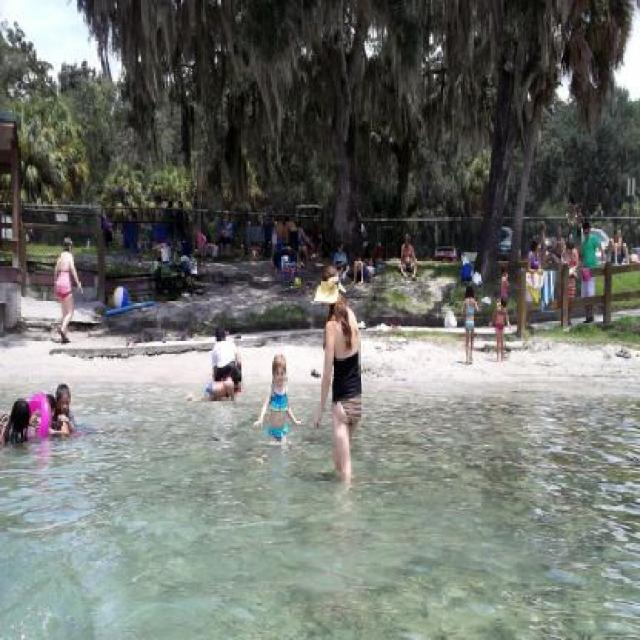Person: (312, 263, 363, 485), (55, 386, 147, 442), (251, 354, 304, 446), (573, 222, 605, 329), (46, 231, 76, 344), (271, 212, 314, 266), (184, 364, 242, 402), (210, 326, 242, 394), (556, 236, 579, 326), (524, 241, 545, 333), (0, 397, 40, 443), (460, 285, 480, 364), (34, 394, 69, 438), (490, 295, 513, 359), (259, 195, 278, 260), (606, 228, 631, 267), (398, 236, 418, 282), (534, 223, 554, 268), (218, 215, 236, 262), (497, 264, 509, 328), (352, 253, 374, 287), (174, 200, 186, 246), (333, 242, 349, 276), (553, 223, 567, 260), (162, 198, 175, 237), (156, 193, 167, 230), (560, 242, 572, 273), (568, 203, 580, 226), (624, 248, 638, 266), (575, 213, 582, 245)
